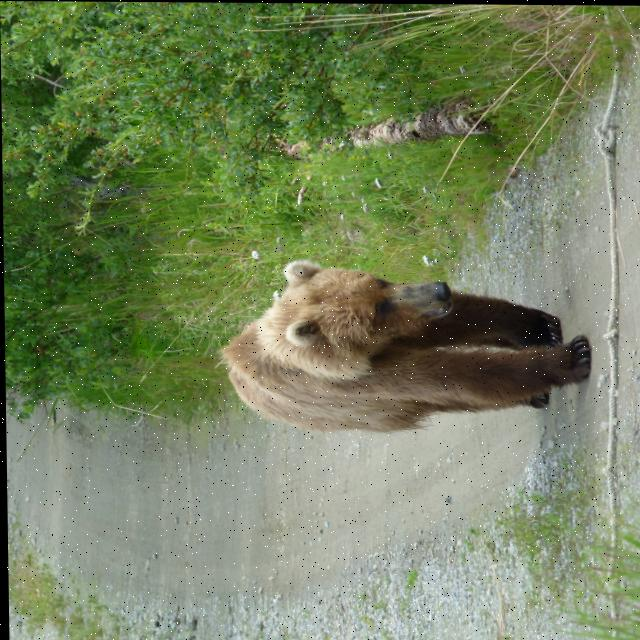bear face: (218, 257, 588, 427)
